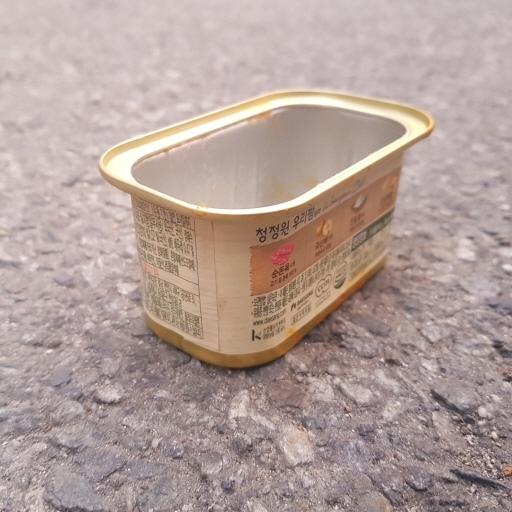Metal_2: (97, 81, 436, 374)
